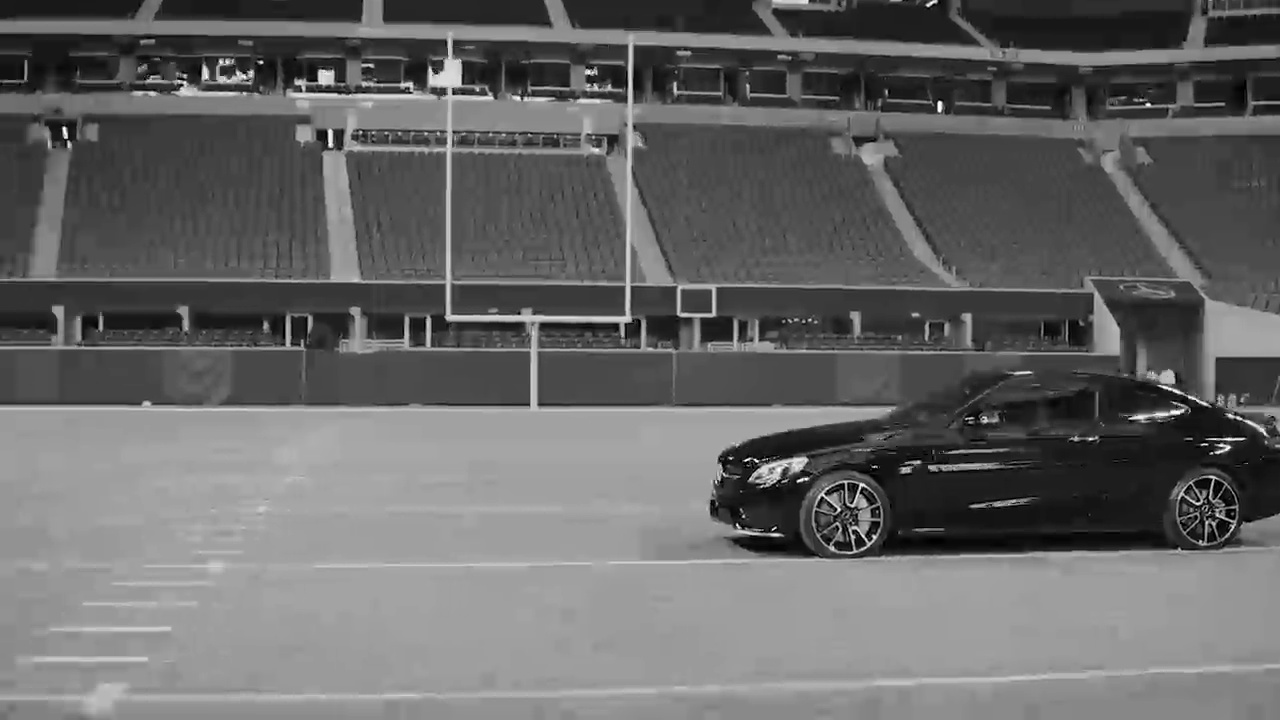car: (701, 364, 1280, 560)
